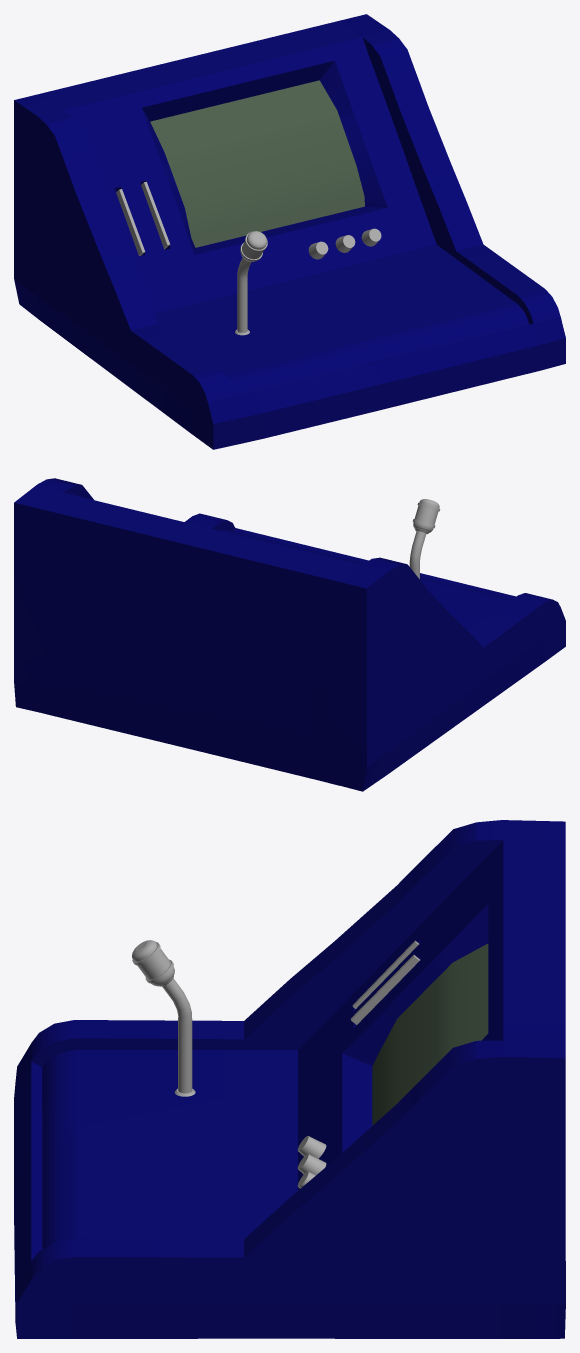
Rendered from Voice Recorder 1.fbx.
3 views of the same model, one above another, from view 1: azimuth 30°, elevation 25°; view 2: azimuth 150°, elevation 25°; view 3: azimuth 270°, elevation 25° (orthographic). The views are drawn at different scales.
Visible parts, largest first — view 1: polySurface11; view 2: polySurface11; view 3: polySurface11.
Part boxes in pixels (bbox=[...]): polySurface11: bbox=[14, 14, 565, 449]; polySurface11: bbox=[14, 478, 565, 791]; polySurface11: bbox=[14, 820, 565, 1338].
Size of the model in its own units: 10.68 by 5.96 by 10.51.
